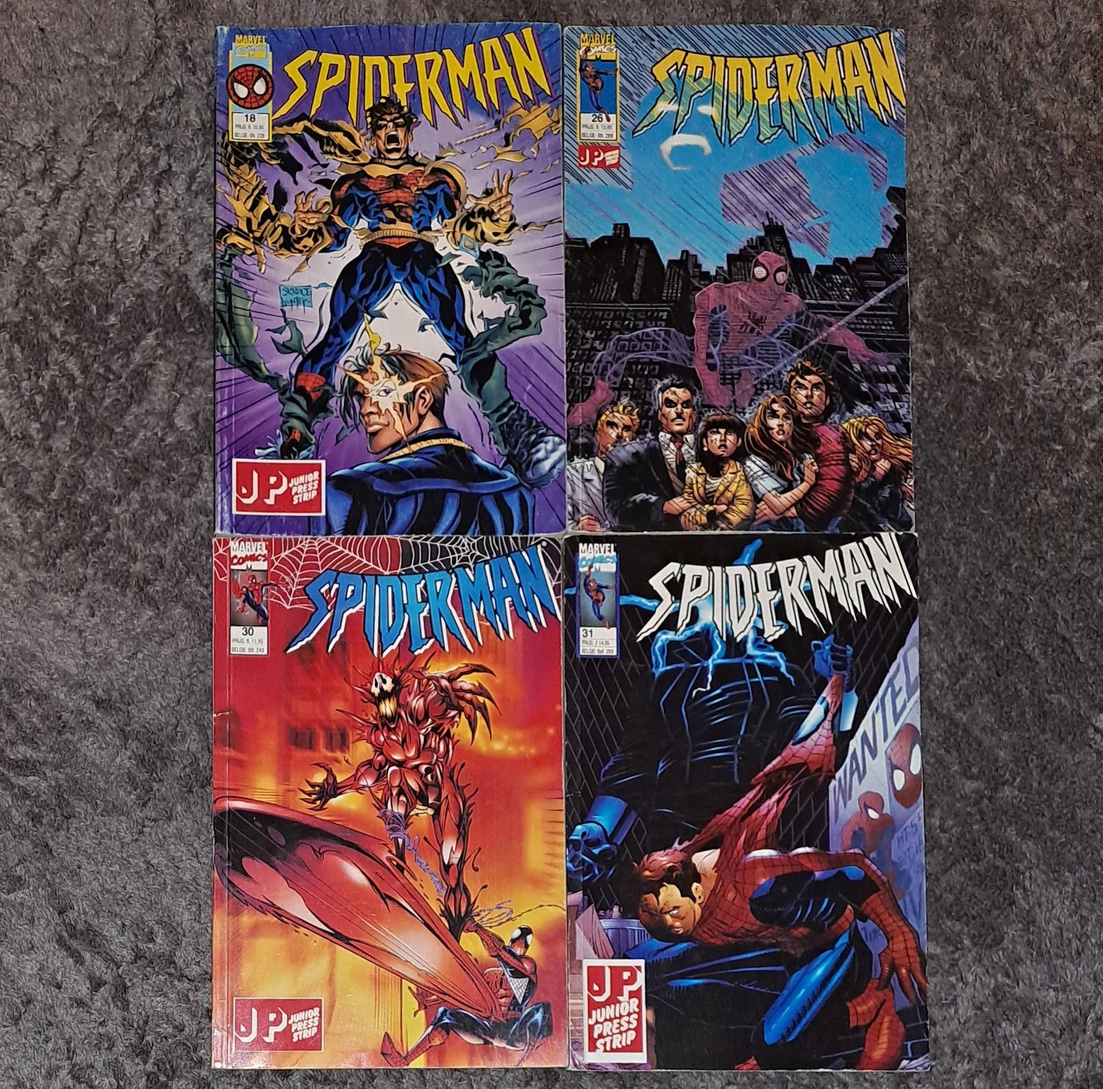comic: (562, 530, 928, 1074), (211, 536, 566, 1067), (212, 22, 566, 537), (562, 24, 914, 535)
